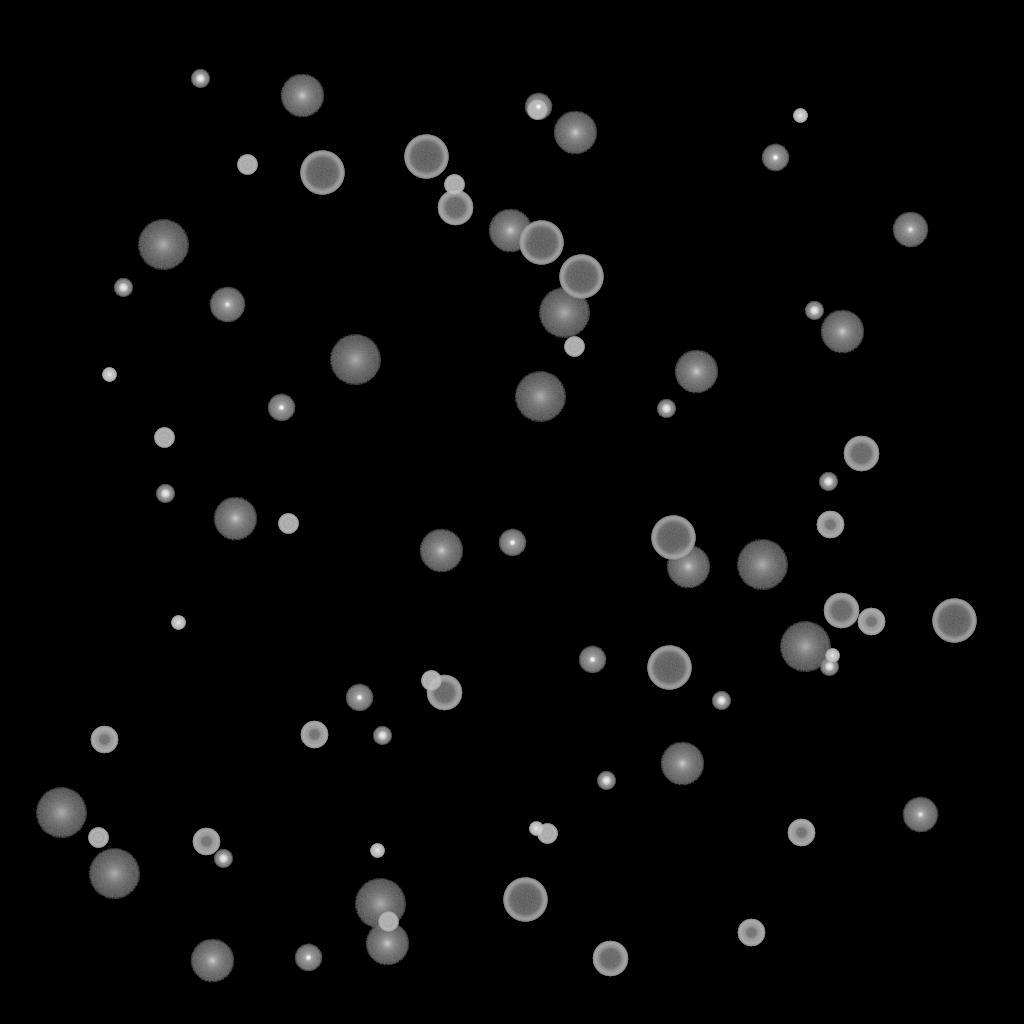depth:-10: (267, 394, 295, 422), (294, 944, 322, 972), (761, 144, 789, 172), (345, 684, 373, 712), (578, 646, 606, 674), (498, 529, 526, 557), (524, 93, 552, 121)
depth:-20: (657, 400, 675, 418), (191, 70, 209, 88), (820, 658, 838, 676), (156, 485, 174, 503), (819, 473, 837, 491), (373, 727, 391, 745), (805, 302, 823, 320), (712, 692, 730, 710), (597, 772, 615, 790), (214, 850, 232, 868), (114, 279, 132, 297)
depth:-30: (370, 844, 384, 858), (102, 368, 116, 382), (793, 109, 807, 123), (529, 822, 543, 836), (825, 649, 839, 663), (171, 616, 185, 630)
depth:-40: (564, 337, 584, 357), (154, 428, 174, 448), (421, 671, 441, 691), (278, 514, 298, 534), (527, 100, 547, 120), (537, 824, 557, 844), (88, 828, 108, 848), (444, 175, 464, 195), (237, 155, 257, 175), (378, 912, 398, 932)
depth:-50: (816, 511, 844, 539), (857, 608, 885, 636), (737, 919, 765, 947), (300, 721, 328, 749), (192, 828, 220, 856), (787, 819, 815, 847), (90, 726, 118, 754)
depth:-60: (823, 593, 859, 629), (426, 675, 462, 711), (592, 941, 628, 977), (437, 190, 473, 226), (843, 436, 879, 472)
depth:-70: (519, 221, 563, 265), (559, 255, 603, 299), (647, 646, 691, 690), (651, 516, 695, 560), (932, 599, 976, 643), (503, 878, 547, 922), (404, 135, 448, 179), (300, 151, 344, 195)
depth:0: (902, 797, 938, 833), (892, 212, 928, 248), (209, 287, 245, 323)
depth:10: (190, 939, 234, 983), (553, 111, 597, 155), (660, 742, 704, 786), (674, 350, 718, 394), (365, 922, 409, 966), (280, 74, 324, 118), (488, 209, 532, 253), (419, 529, 463, 573), (666, 545, 710, 589), (820, 310, 864, 354), (213, 497, 257, 541)
depth:20: (137, 220, 189, 270), (779, 622, 831, 672), (354, 879, 406, 929), (329, 335, 381, 385), (88, 849, 140, 899), (538, 288, 590, 338), (514, 372, 566, 422), (736, 540, 788, 590), (35, 788, 87, 838)
